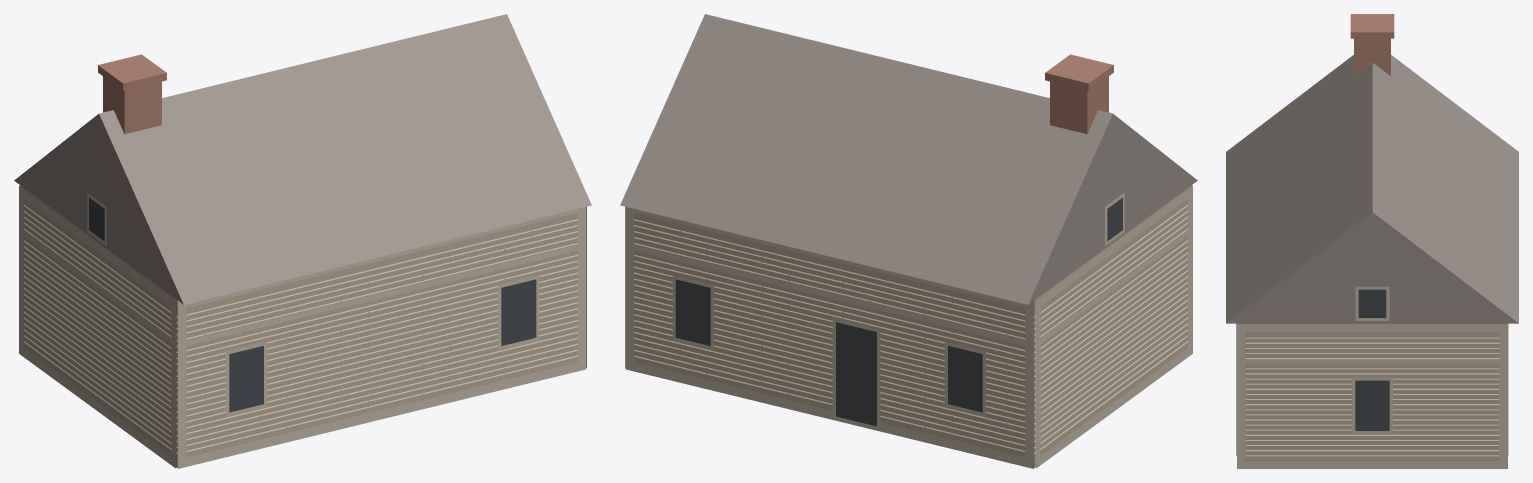
File: watkins_school_house__house_1833.glb
3 views of the same model, side by side, from view 1: azimuth 30°, elevation 25°; view 2: azimuth 150°, elevation 25°; view 3: azimuth 270°, elevation 25° (orthographic). The views are drawn at different scales.
Visible parts, largest first — view 1: watkins_school_house__house_1833; view 2: watkins_school_house__house_1833; view 3: watkins_school_house__house_1833.
Boxes of the visible parts, x1,y1,x2,y2 form: watkins_school_house__house_1833: [14, 14, 591, 468]; watkins_school_house__house_1833: [620, 14, 1197, 468]; watkins_school_house__house_1833: [1226, 14, 1518, 468].
Size of the model in its own units: 9.24 by 7.15 by 6.6.
